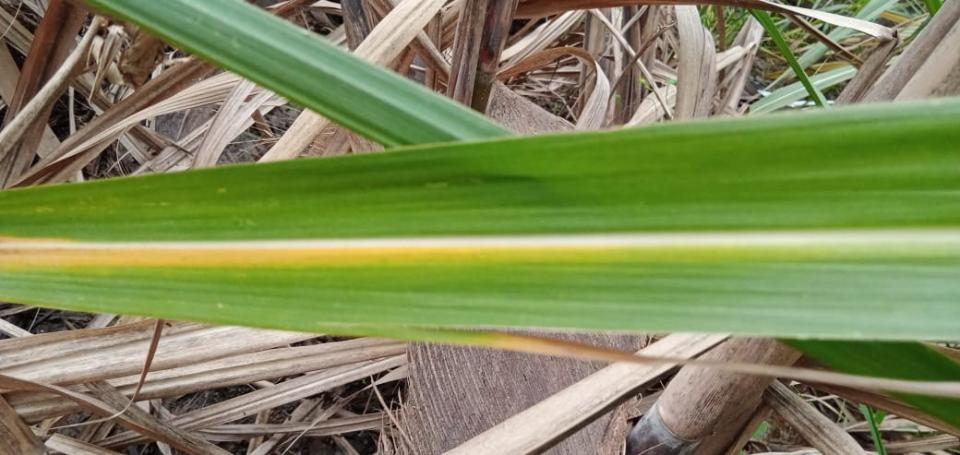Yellow: (0, 246, 522, 268), (0, 234, 75, 242)
